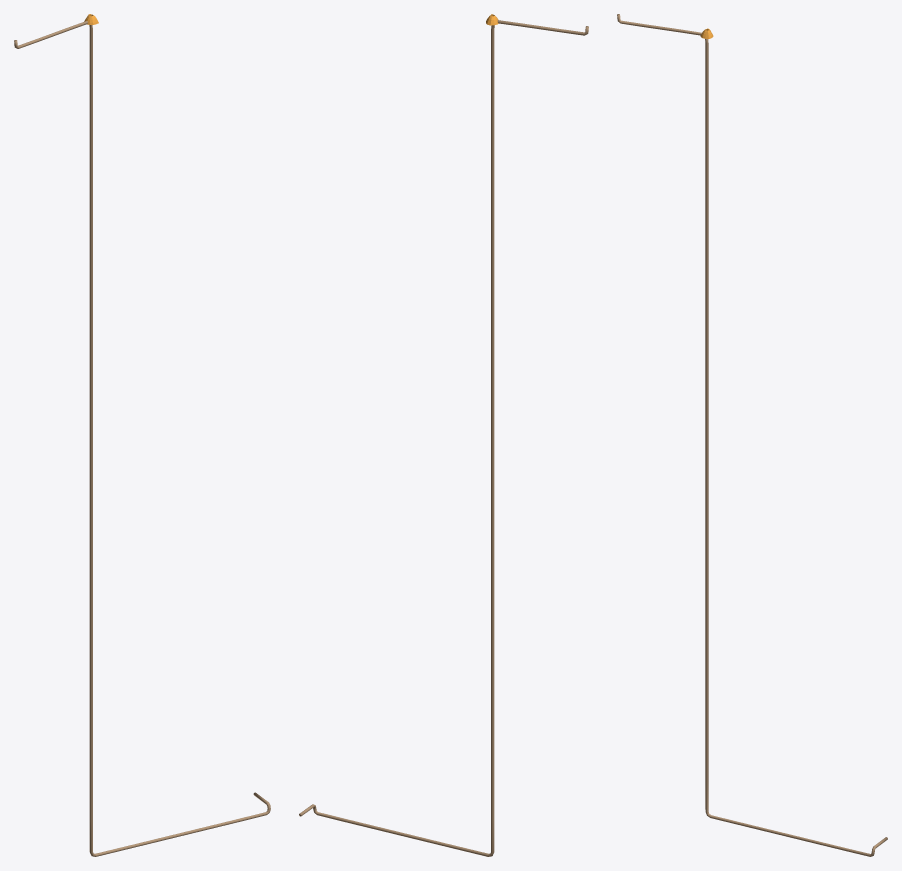
The model's file is pipes_hvac__erv-yes_and_hvac-split_furnace_92+split_furnace_cond96+split_furnace_98.glb.
3 views of the same model, side by side, from view 1: azimuth 30°, elevation 25°; view 2: azimuth 150°, elevation 25°; view 3: azimuth 330°, elevation 25° (orthographic). The views are drawn at different scales.
Parts seen in each view (by area): view 1: cable_erv_interlock_90; view 2: cable_erv_interlock_90; view 3: cable_erv_interlock_90.
Boxes of the visible parts, x1=… form: cable_erv_interlock_90: x1=14, y1=21, x2=270, y2=856; cable_erv_interlock_90: x1=299, y1=20, x2=588, y2=856; cable_erv_interlock_90: x1=617, y1=14, x2=887, y2=856.
Bounding box in the file's own units: 0.6545 × 1.99 × 0.1051.
